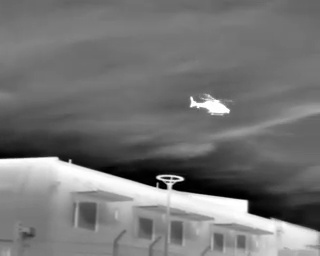HELICOPTER: (186, 87, 239, 123)
